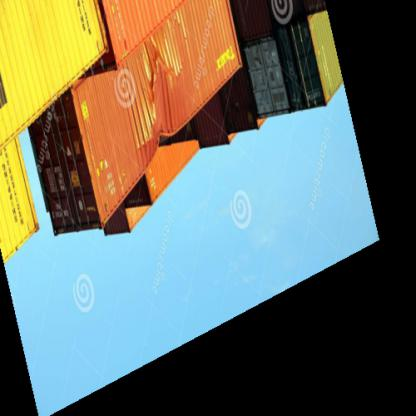Damage: (132, 61, 174, 153)
